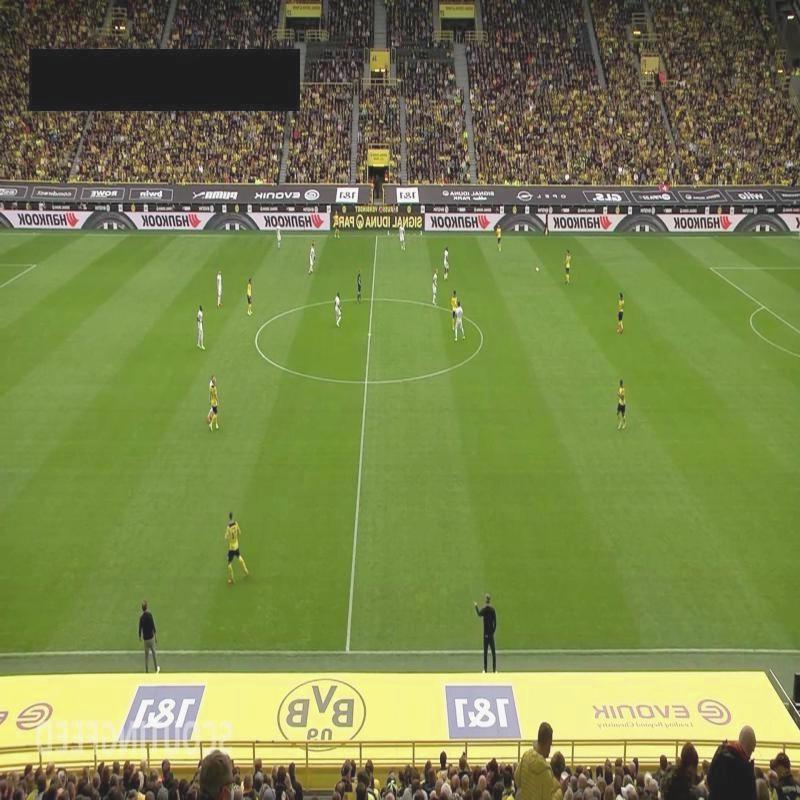10: (757, 298, 772, 312)
13: (370, 228, 384, 242)
14: (366, 290, 380, 304)
15: (360, 374, 374, 388)
16: (337, 640, 356, 659)
9: (24, 258, 43, 274), (705, 260, 719, 274)
c: (475, 328, 491, 348), (247, 328, 263, 347)
